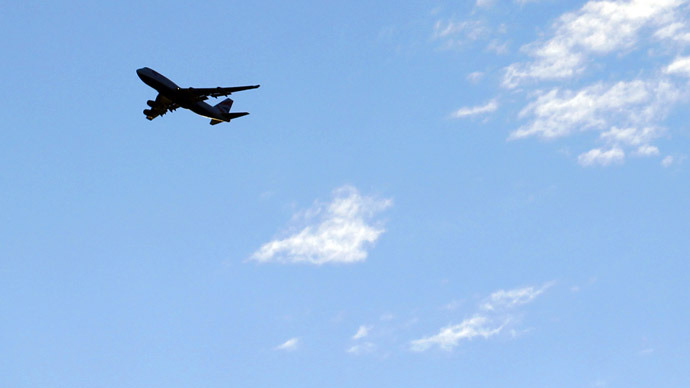aeroplane: (104, 33, 278, 152)
